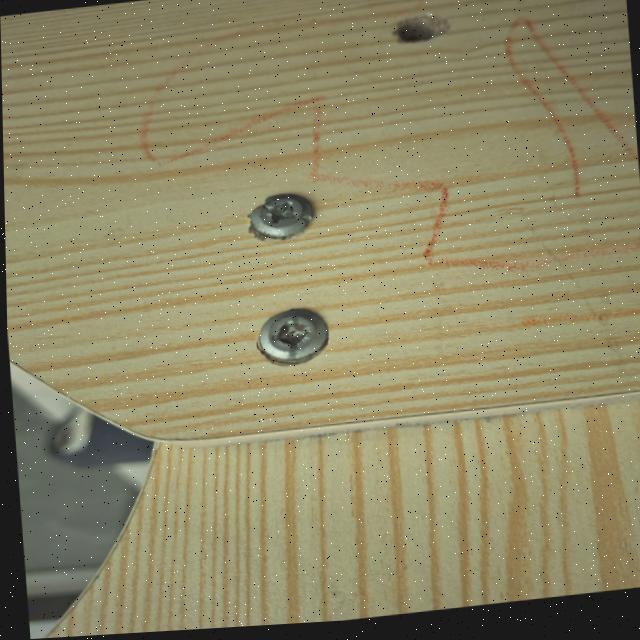Phillips: (251, 304, 341, 370), (242, 184, 335, 247)
